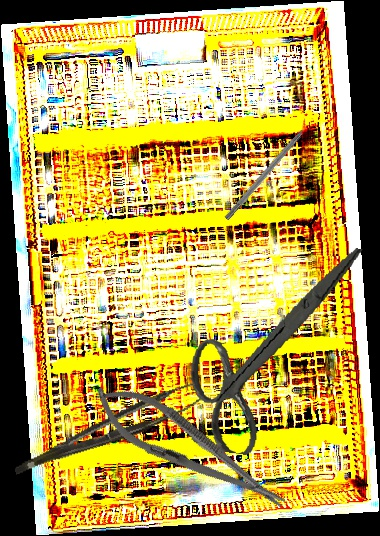Hook Surgical: (223, 116, 318, 222)
Iris Scissors: (177, 227, 367, 468)
Needle Holder: (82, 369, 297, 529)
Tissue Forceps: (6, 381, 207, 475)
